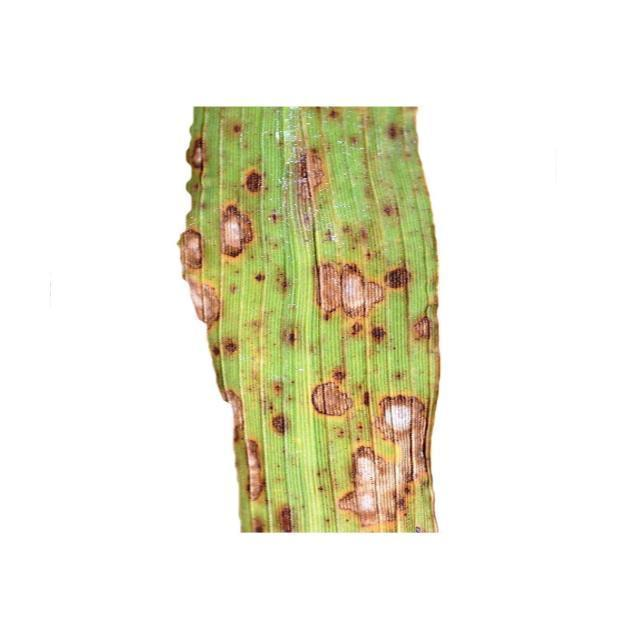Leaf_Blast: (289, 149, 395, 357), (178, 120, 253, 397), (299, 371, 440, 516), (226, 420, 285, 530)
